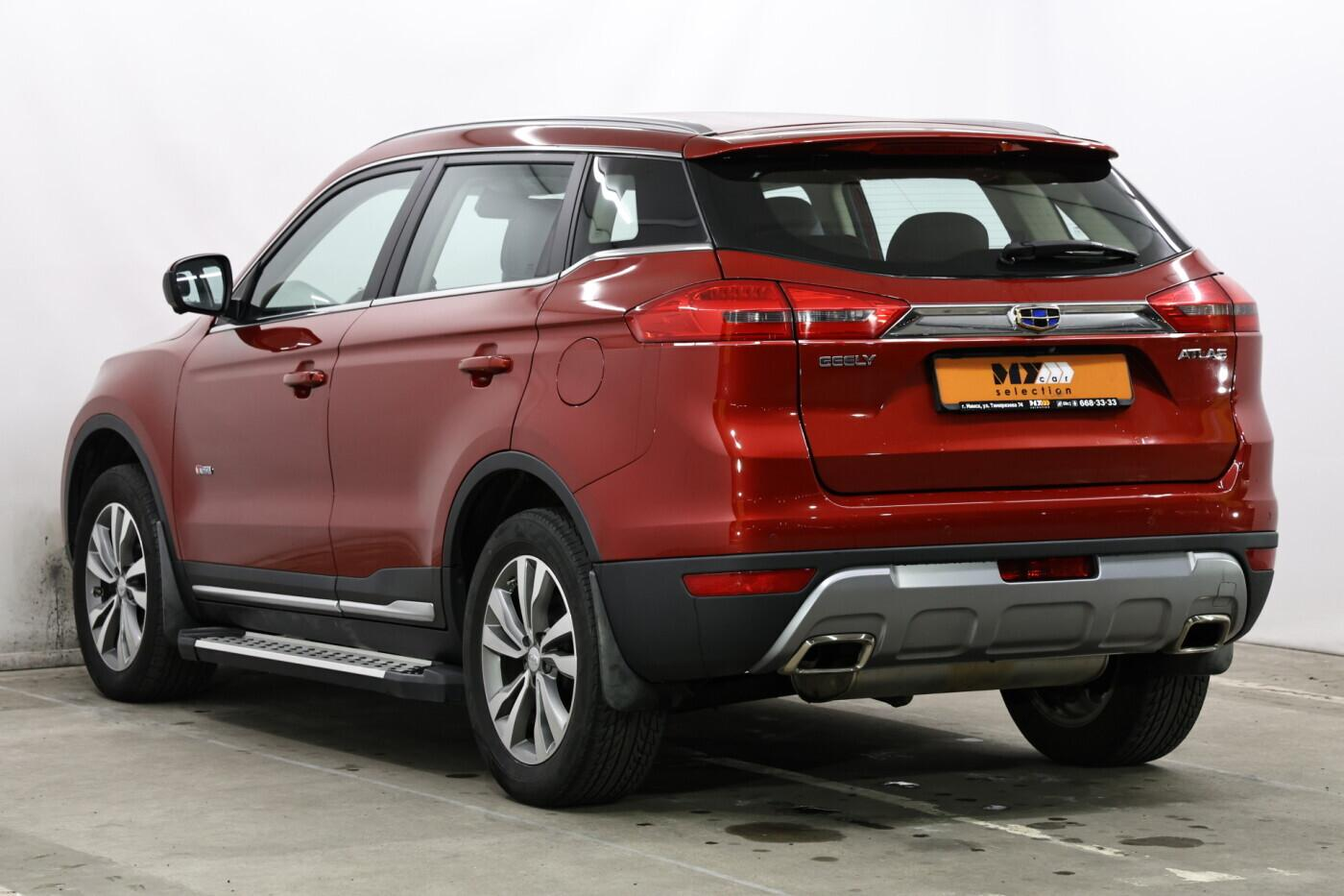Atlas_2016-2023: (52, 101, 1285, 801)
